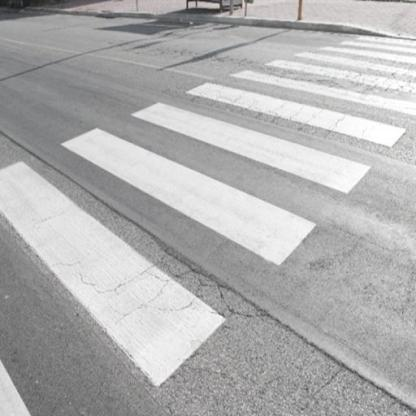crosswalk: (97, 79, 408, 201)
